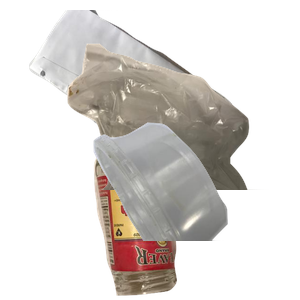glass: (91, 142, 260, 300)
paper: (27, 10, 252, 187)
plastic: (91, 120, 300, 300)
trash: (65, 41, 300, 221)
